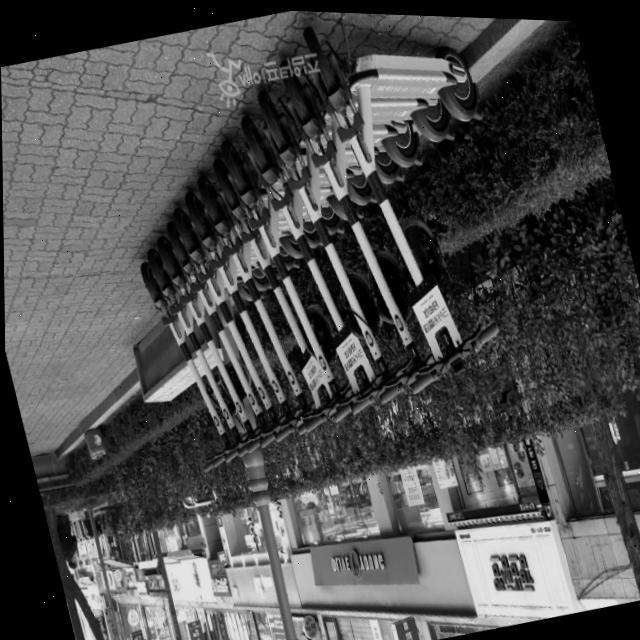kickboard_ok: (289, 11, 486, 128)
